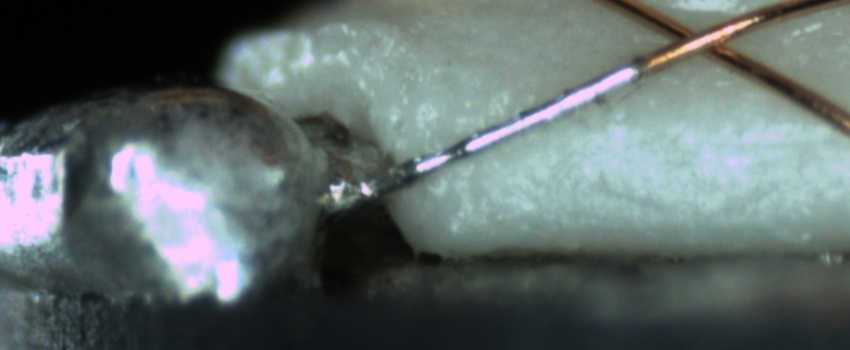CL: (647, 10, 748, 67)
DL: (533, 105, 850, 169)
TS: (341, 63, 642, 207)
TTCW: (370, 37, 694, 196)
